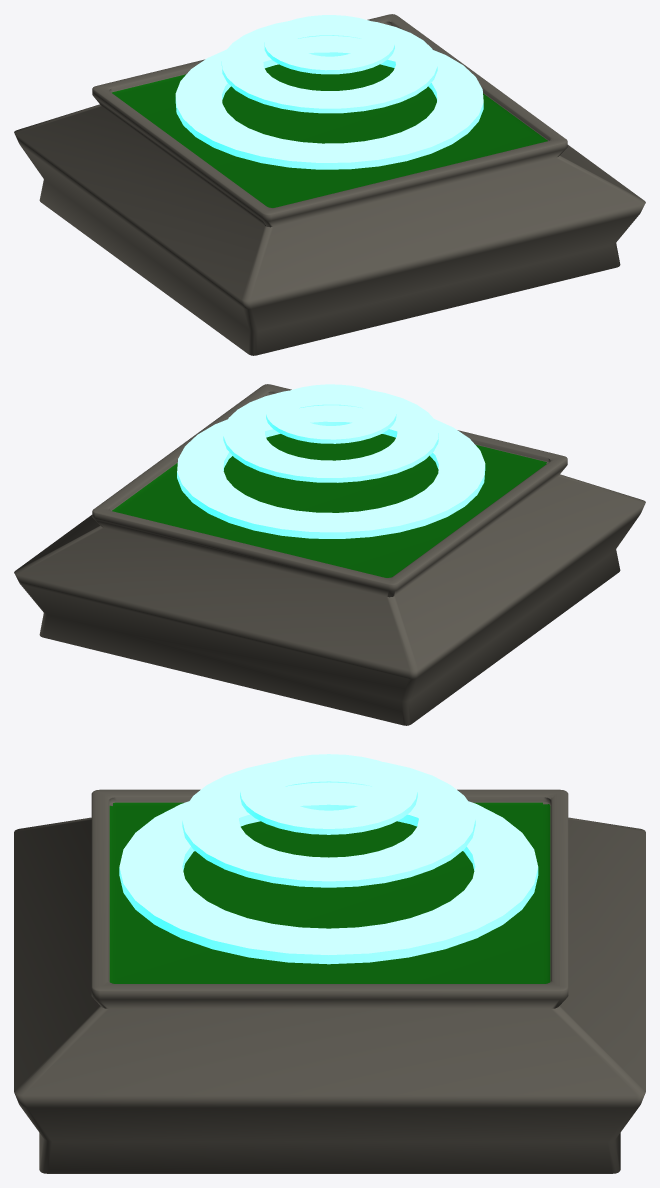
The model's file is lift.glb.
The picture shows the model from 3 angles, top to bottom: view 1: azimuth 30°, elevation 25°; view 2: azimuth 150°, elevation 25°; view 3: azimuth 270°, elevation 25°; orthographic projection. The views are drawn at different scales.
Parts seen in each view (by area): view 1: launchpad, launch-circle-1, launch-circle-2, launch-circle-3; view 2: launchpad, launch-circle-1, launch-circle-2, launch-circle-3; view 3: launchpad, launch-circle-1, launch-circle-2, launch-circle-3.
Boxes of the visible parts, x1=… form: launchpad: x1=14, y1=14, x2=645, y2=355; launch-circle-1: x1=175, y1=36, x2=483, y2=169; launch-circle-2: x1=221, y1=21, x2=437, y2=113; launch-circle-3: x1=264, y1=15, x2=394, y2=74; launchpad: x1=14, y1=384, x2=645, y2=725; launch-circle-1: x1=177, y1=405, x2=485, y2=538; launch-circle-2: x1=223, y1=390, x2=438, y2=482; launch-circle-3: x1=266, y1=384, x2=396, y2=443; launchpad: x1=14, y1=789, x2=645, y2=1173; launch-circle-1: x1=119, y1=782, x2=538, y2=964; launch-circle-2: x1=182, y1=762, x2=475, y2=887; launch-circle-3: x1=240, y1=754, x2=417, y2=834.
Bounding box in the file's own units: 2.17 × 0.9869 × 2.17.
